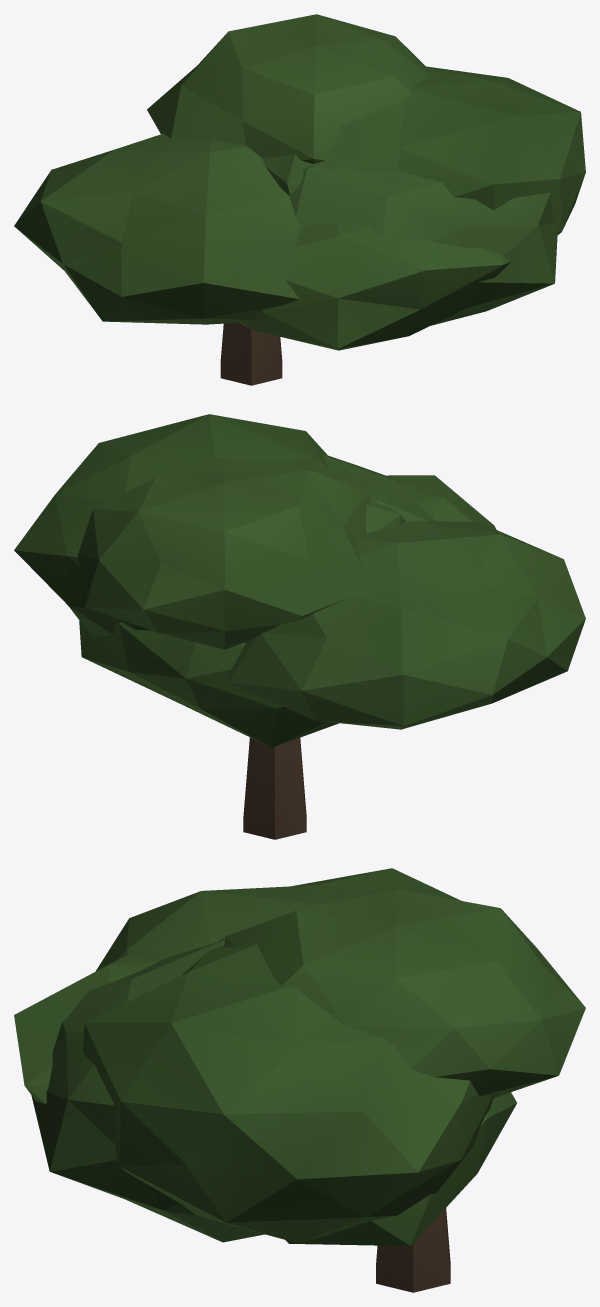
The model's file is veg_ek_1.glb.
The picture shows the model from 3 angles, top to bottom: view 1: azimuth 30°, elevation 25°; view 2: azimuth 150°, elevation 25°; view 3: azimuth 270°, elevation 25°; orthographic projection. The views are drawn at different scales.
Parts seen in each view (by area): view 1: geometry_0; view 2: geometry_0; view 3: geometry_0.
Part boxes in pixels (left/top/right/bottom): geometry_0: left=14, top=14, right=585, bottom=385; geometry_0: left=14, top=414, right=585, bottom=839; geometry_0: left=14, top=868, right=585, bottom=1292.
Size of the model in its own units: 1.63 by 1 by 1.36.
